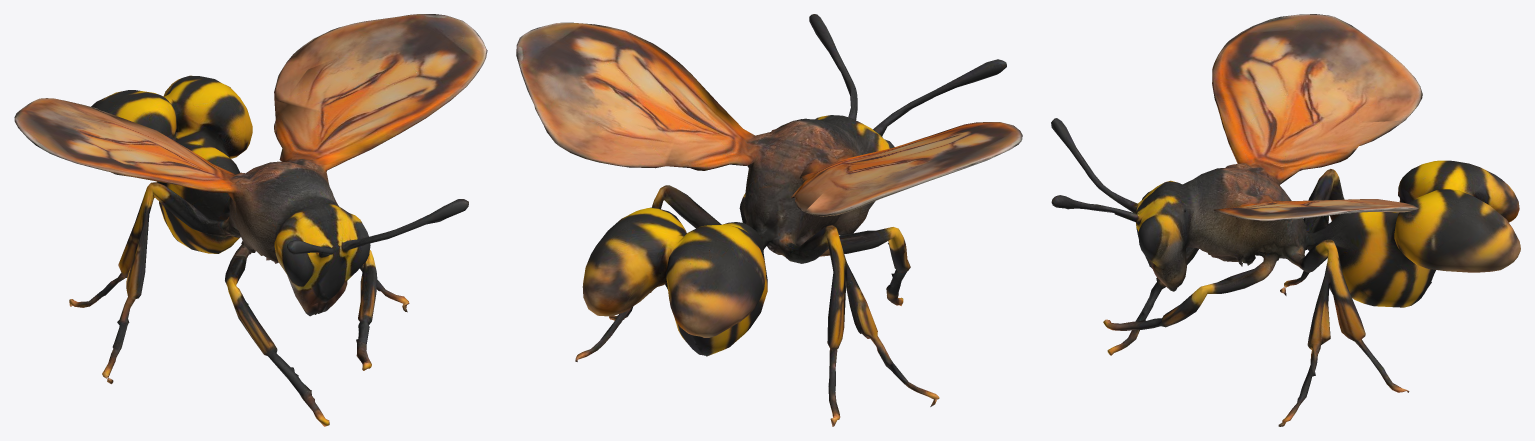
File: bees.glb
3 views of the same model, side by side, from view 1: azimuth 30°, elevation 25°; view 2: azimuth 150°, elevation 25°; view 3: azimuth 270°, elevation 25° (orthographic). The views are drawn at different scales.
Parts seen in each view (by area): view 1: Body, RWing, LWing; view 2: Body, RWing, LWing; view 3: Body, LWing, RWing.
Boxes of the visible parts, <box> form: Body: <box>91,75,460,426</box>; RWing: <box>276,14,487,312</box>; LWing: <box>14,98,302,383</box>; Body: <box>582,26,998,356</box>; RWing: <box>516,14,826,361</box>; LWing: <box>735,59,1022,426</box>; Body: <box>1052,120,1520,355</box>; LWing: <box>1051,14,1422,295</box>; RWing: <box>1051,195,1485,426</box>.
Bounding box in the file's own units: 2 × 1.15 × 1.95.
1 material, 1 textured.
